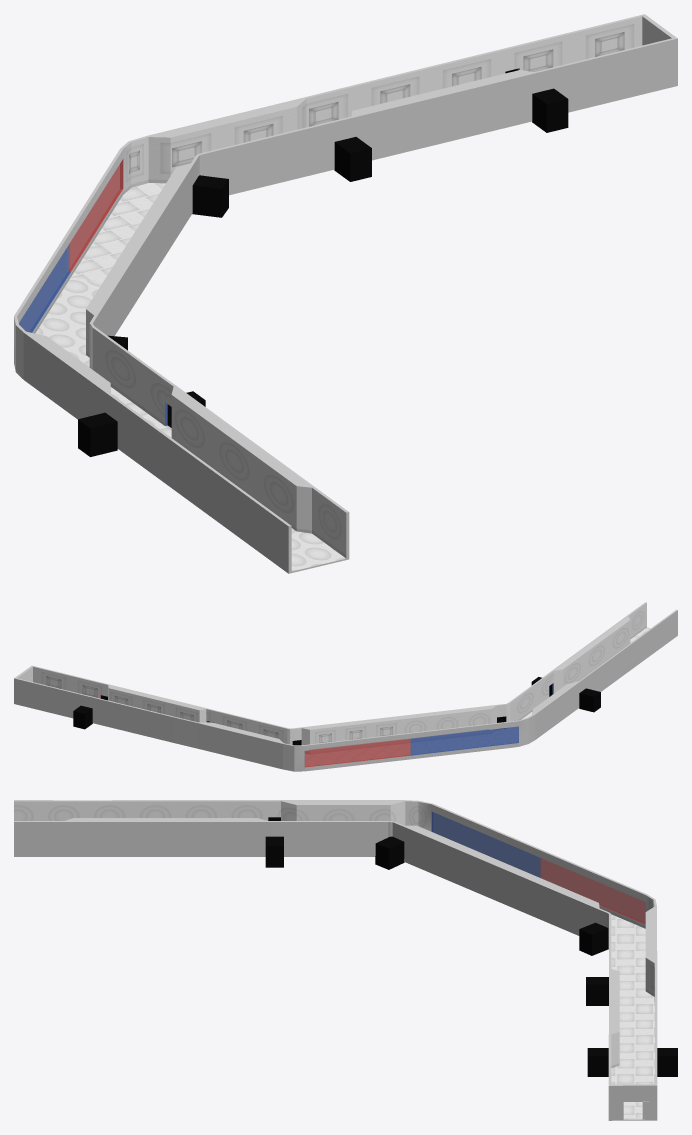
File: SM_Bridge_2_10.30.fbx
3 views of the same model, one above another, from view 1: azimuth 30°, elevation 25°; view 2: azimuth 150°, elevation 25°; view 3: azimuth 270°, elevation 25° (orthographic). The views are drawn at different scales.
Parts seen in each view (by area): view 1: group_pasted__pPlane1, polySurface9, polySurface3, polySurface6, polySurface5, polySurface7; view 2: group_pasted__pPlane1, polySurface9, polySurface3, polySurface8; view 3: group_pasted__pPlane1, polySurface9, polySurface5, polySurface4, polySurface6, polySurface7, polySurface8, polySurface2.
Boxes of the visible parts, x1,y1,x2,y2 form: group_pasted__pPlane1: (14,14,677,573); polySurface9: (19,159,122,332); polySurface3: (78,412,117,456); polySurface6: (334,137,371,181); polySurface5: (192,175,228,217); polySurface7: (532,88,568,132); group_pasted__pPlane1: (14,602,677,771); polySurface9: (304,726,518,767); polySurface3: (579,688,600,712); polySurface8: (73,705,92,729); group_pasted__pPlane1: (14,800,657,1120); polySurface9: (432,811,645,923); polySurface5: (579,922,608,955); polySurface4: (375,836,404,869); polySurface6: (586,977,608,1005); polySurface7: (587,1048,608,1076); polySurface8: (657,1048,677,1076); polySurface2: (265,836,283,867).
Bounding box in the file's own units: 589 × 33.81 × 560.
12 materials, 5 textured.
